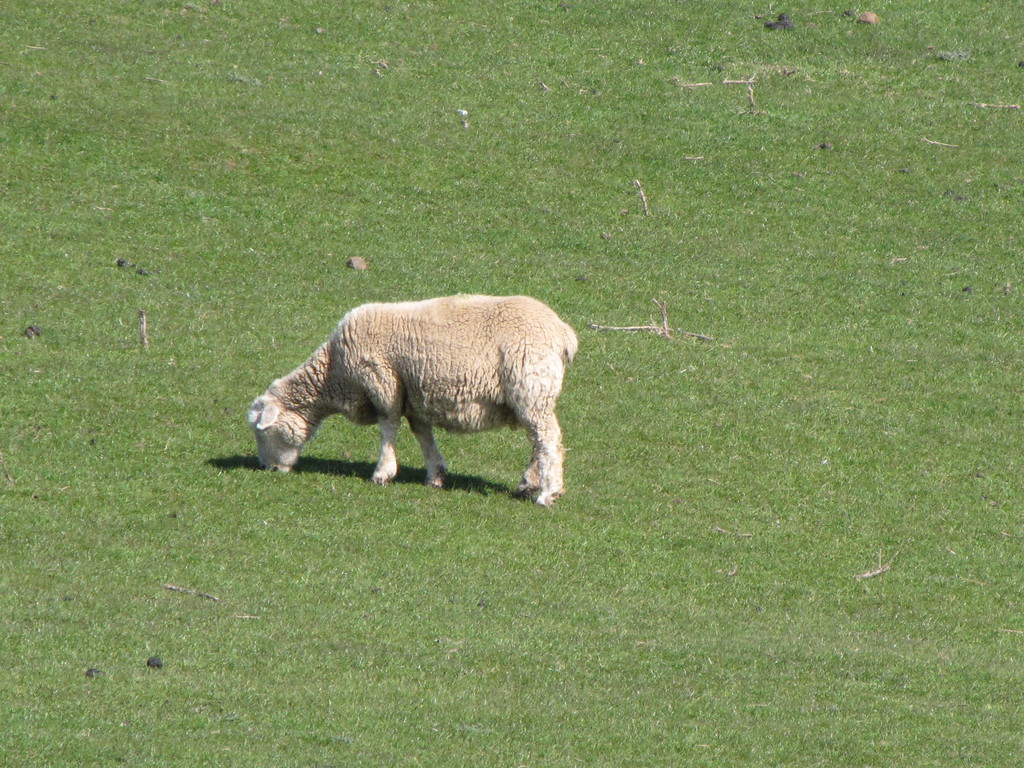sheep: (248, 291, 581, 504)
